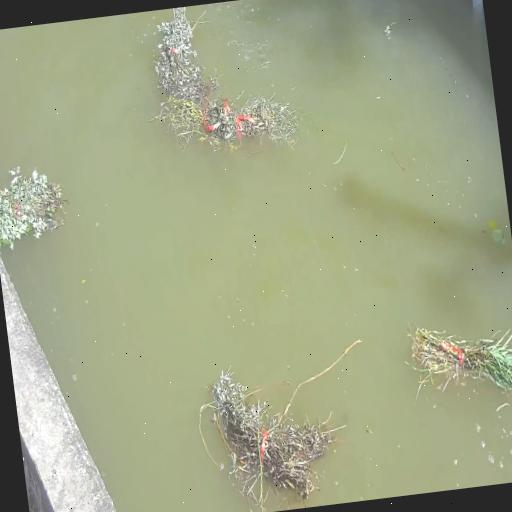twig: (200, 343, 377, 512), (153, 79, 300, 161), (402, 307, 512, 406), (0, 159, 72, 254), (147, 6, 212, 106)
